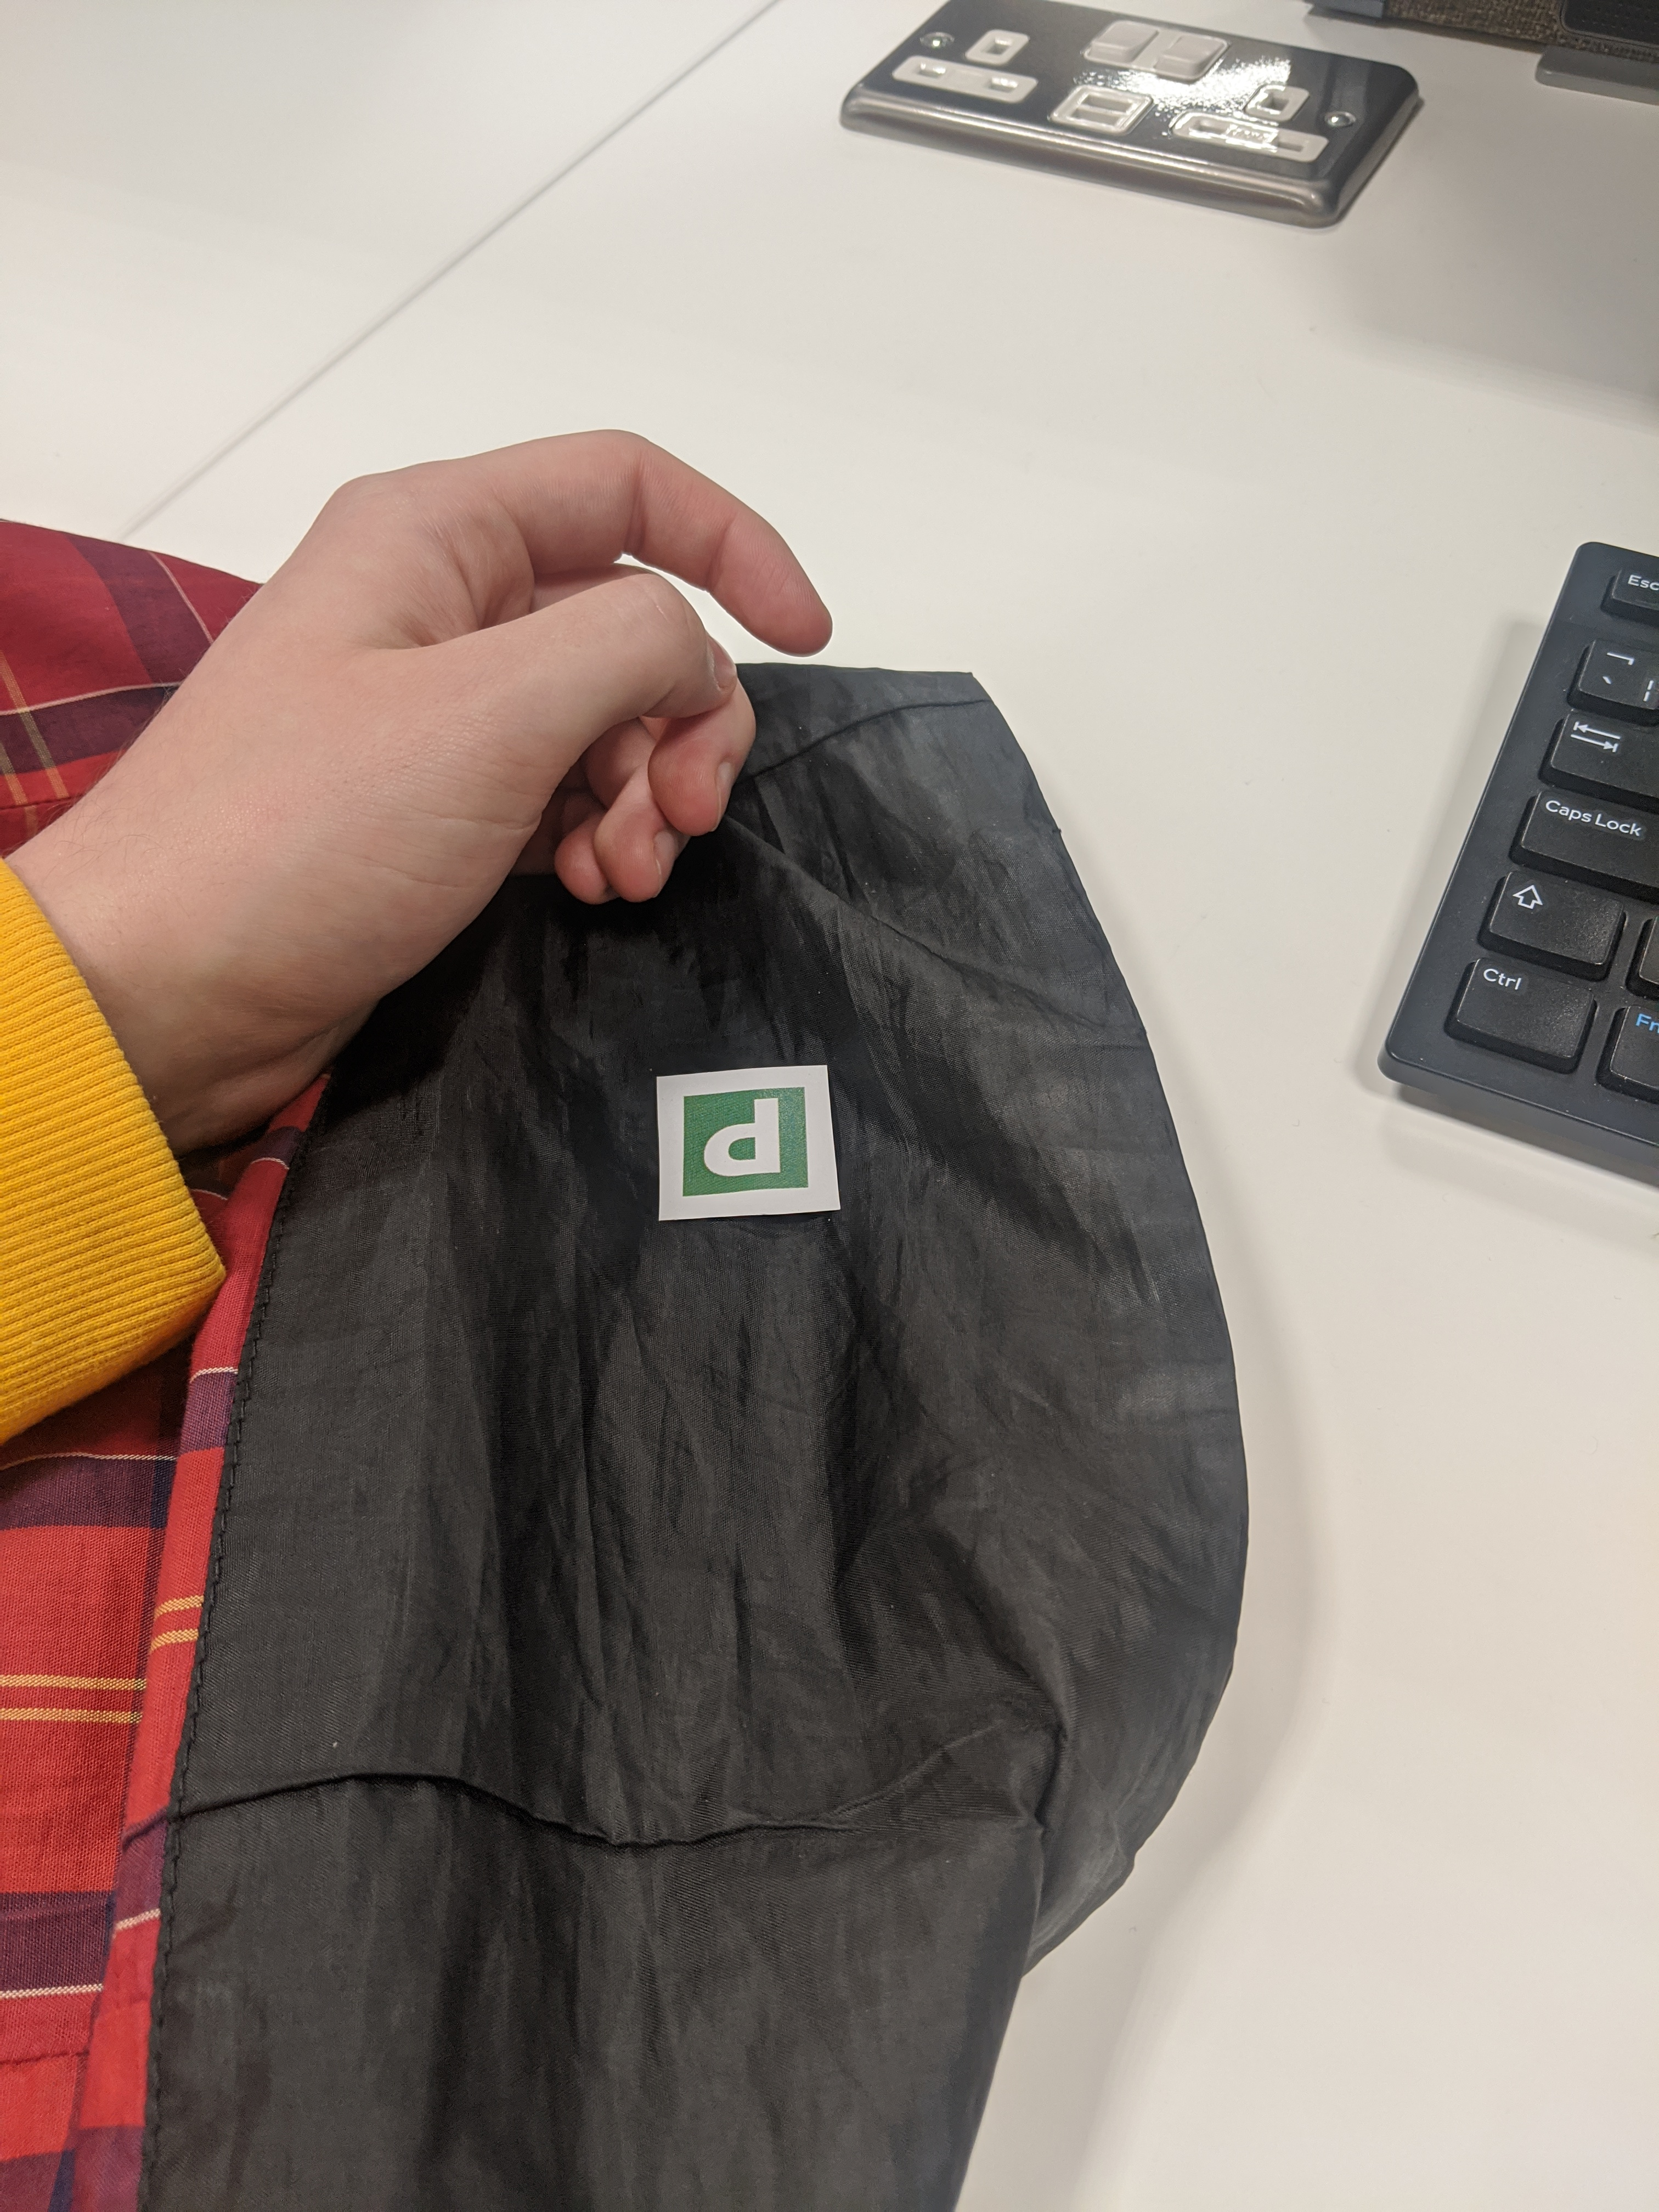green marker: (641, 1038, 854, 1240)
